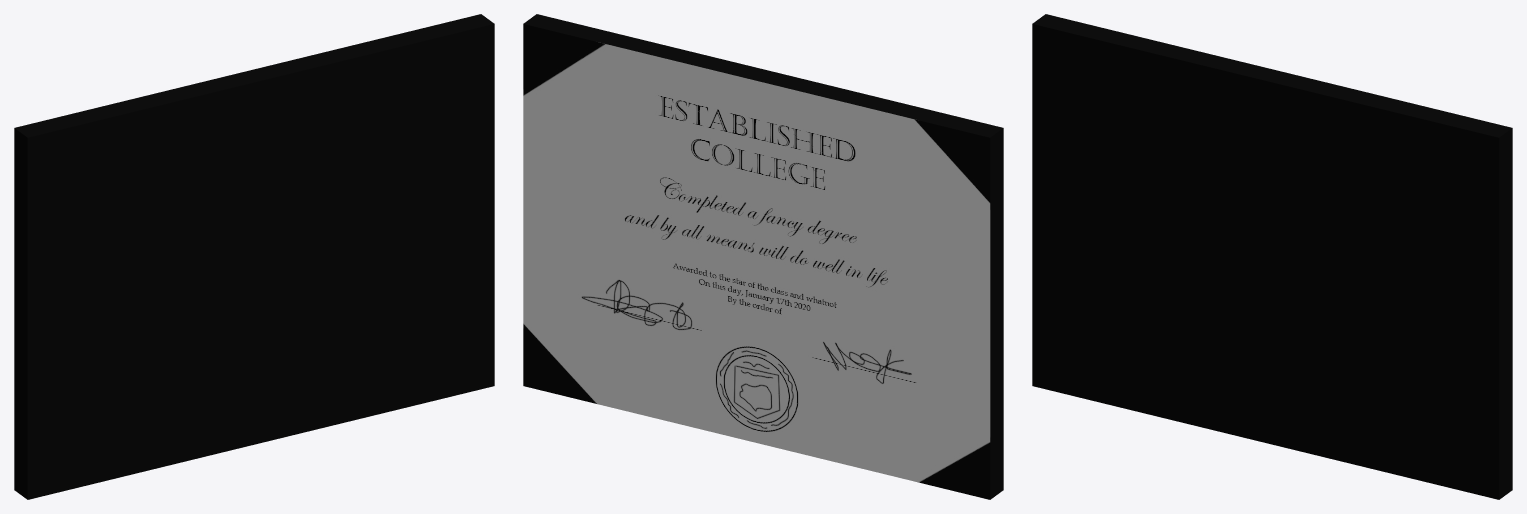
File: fakedegree.glb
3 renders of one model, left to right at view 1: azimuth 30°, elevation 25°; view 2: azimuth 150°, elevation 25°; view 3: azimuth 330°, elevation 25°, orthographic.
Visible parts, largest first — view 1: degree; view 2: degree; view 3: degree.
Part boxes in pixels (x1,y1,x2,y2): degree: (14, 14, 494, 499); degree: (523, 14, 1003, 499); degree: (1032, 14, 1512, 499).
Size of the model in its own units: 18.11 by 13.42 by 0.907.
Materials: 1 (1 with a texture image).
